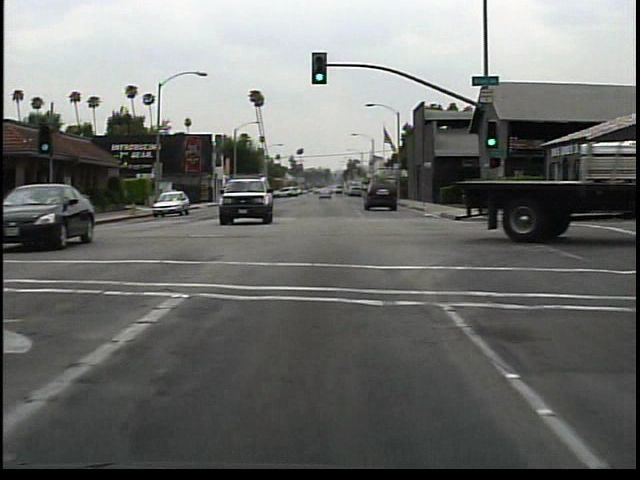person: (168, 183, 184, 206)
